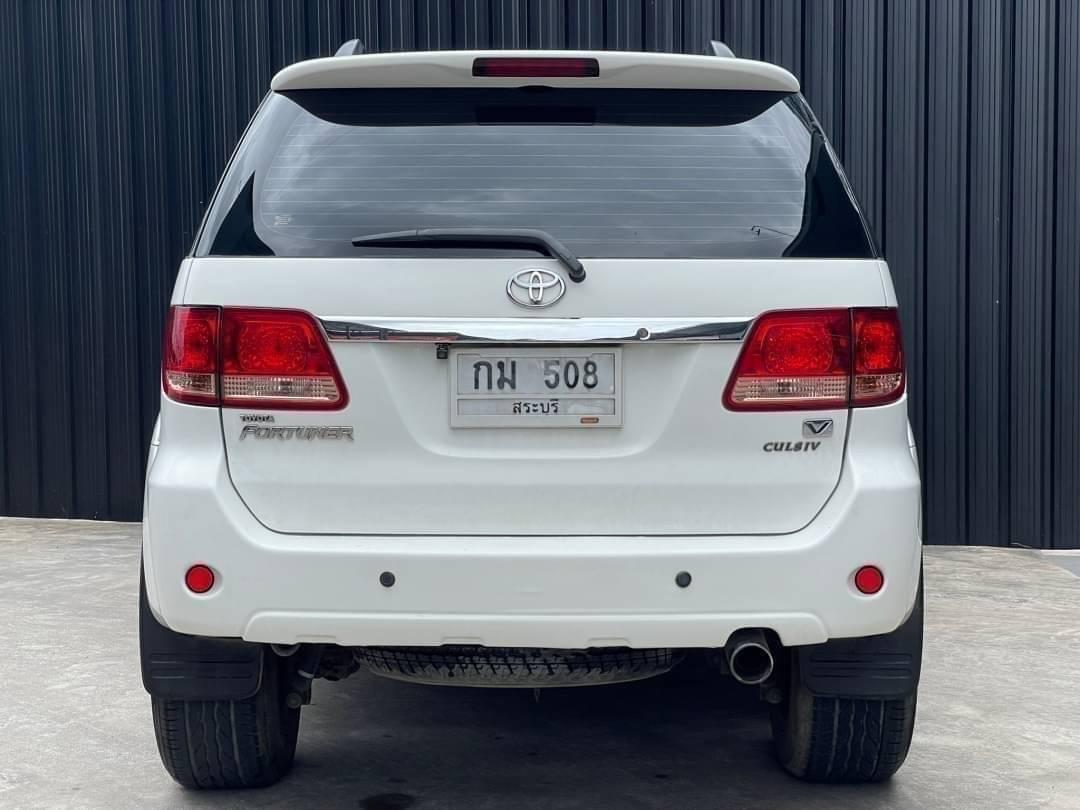license-plate: (448, 334, 626, 431)
